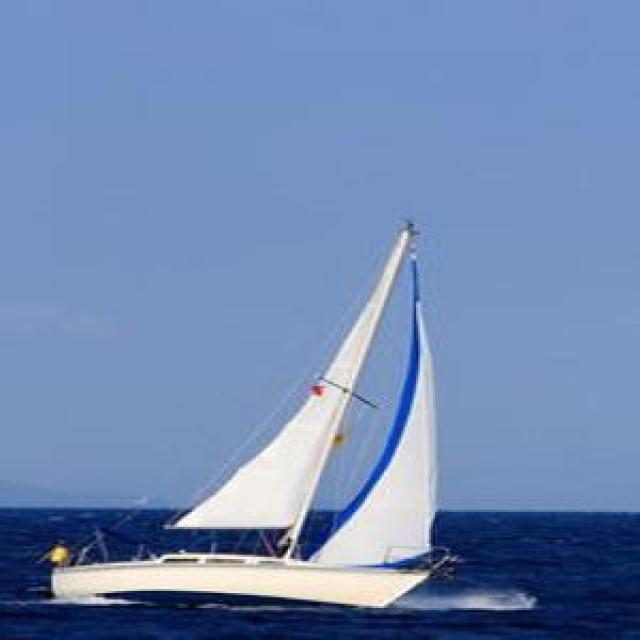sailboat: (59, 181, 464, 599)
